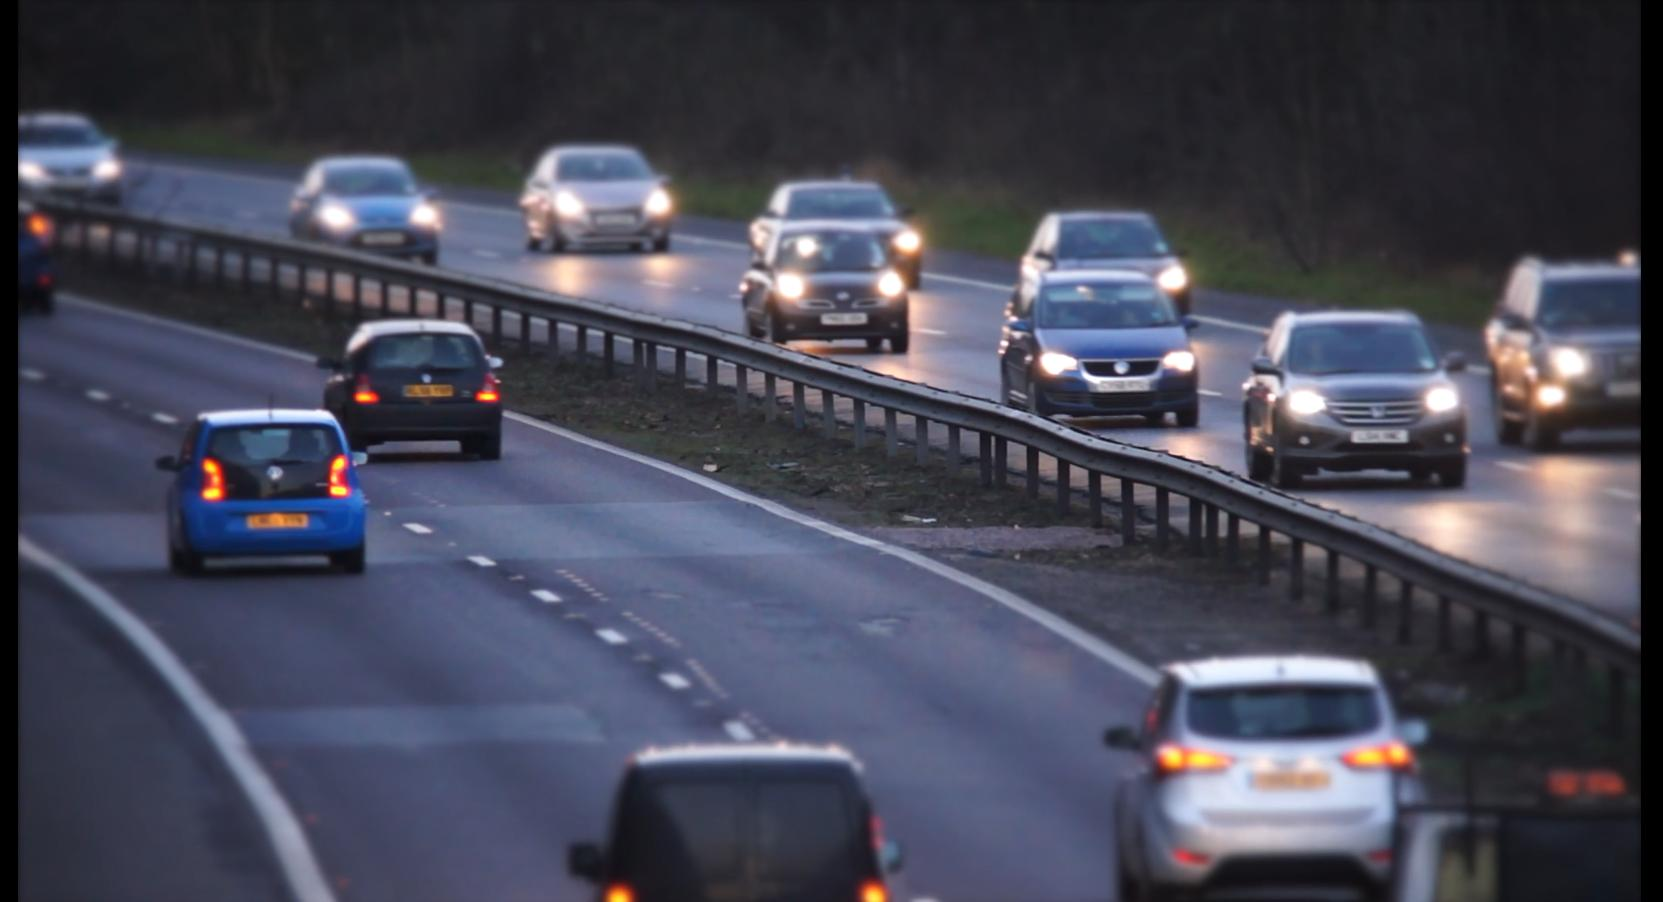car: (1144, 618, 1437, 902), (1260, 270, 1480, 512), (176, 388, 395, 587), (1468, 270, 1663, 481), (292, 112, 501, 270), (4, 66, 181, 246), (768, 248, 928, 408), (784, 154, 931, 251)
van: (590, 712, 912, 879)
